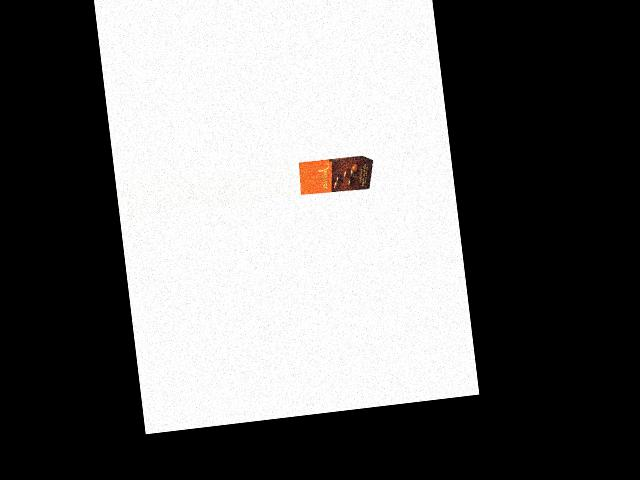chocolate: (297, 152, 376, 201)
